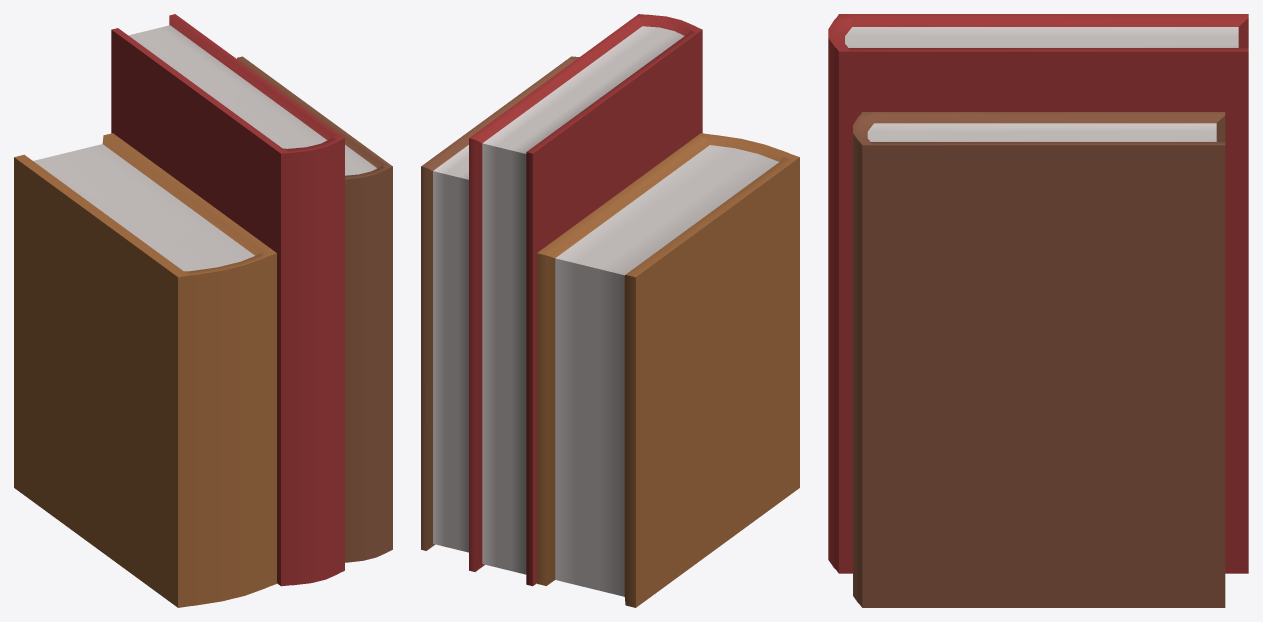
File: Mesh_Book_03.fbx
The picture shows the model from 3 angles, left to right: view 1: azimuth 30°, elevation 25°; view 2: azimuth 150°, elevation 25°; view 3: azimuth 270°, elevation 25°; orthographic projection. The views are drawn at different scales.
Visible parts, largest first — view 1: Book18, Book20, Book19; view 2: Book18, Book20, Book19; view 3: Book19, Book20.
Part boxes in pixels (left/top/right/bottom): Book18: left=14, top=133, right=276, bottom=607; Book20: left=111, top=14, right=344, bottom=586; Book19: left=237, top=56, right=392, bottom=562; Book18: left=537, top=133, right=799, bottom=607; Book20: left=469, top=14, right=702, bottom=586; Book19: left=421, top=56, right=579, bottom=552; Book19: left=853, top=112, right=1225, bottom=607; Book20: left=828, top=14, right=1248, bottom=573.
Bounding box in the file's own units: 18.57 × 34.64 × 25.25.
